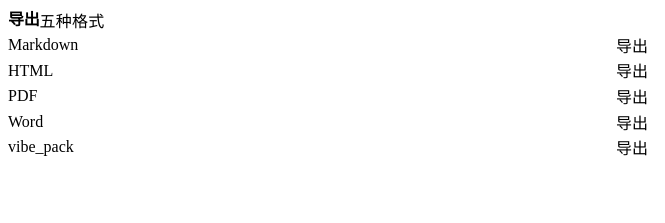
Scenario: 导出屏 › 阻断的**原因**先说出来，不是只丢一串 id
Click the button "导出" in the row of "PDF" at (632, 96), box [616,84,648,108]
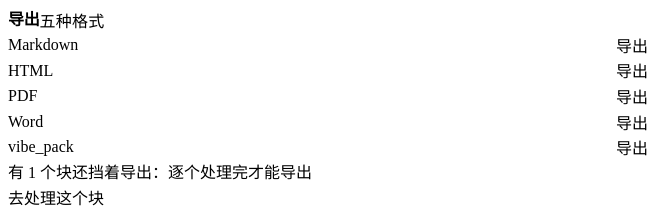
Expected: the text "有 1 个块还挡着导出：逐个处理完才能导出" is shown, [8,164,312,181]
